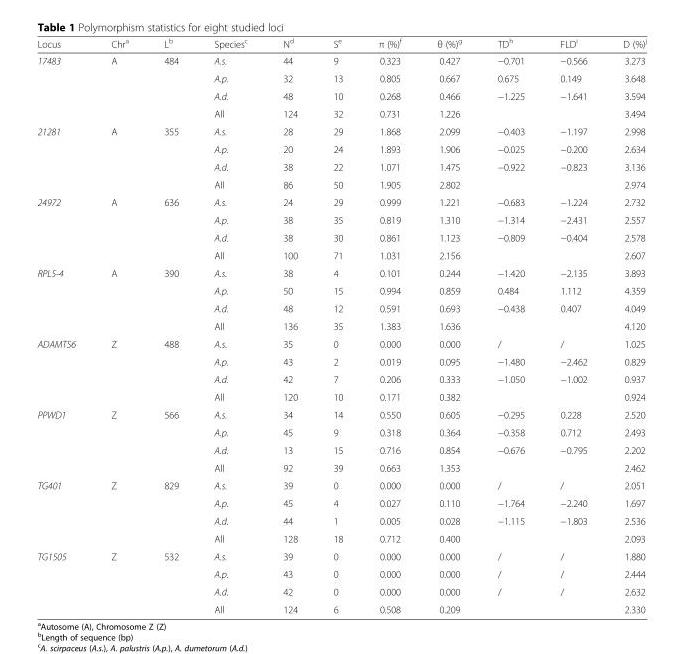table: (36, 36, 646, 614)
table column: (195, 36, 264, 614), (541, 36, 604, 614), (479, 36, 541, 614), (418, 36, 479, 614), (360, 36, 418, 614), (36, 36, 92, 614), (92, 36, 145, 614), (145, 36, 195, 614), (264, 36, 314, 614), (314, 36, 360, 614), (604, 36, 646, 614)
table column header: (36, 36, 646, 51)
table row: (36, 51, 646, 69), (36, 86, 646, 104), (36, 104, 646, 122), (36, 139, 646, 157), (36, 157, 646, 175), (36, 192, 646, 210), (36, 210, 646, 228), (36, 228, 646, 246), (36, 263, 646, 281), (36, 281, 646, 299), (36, 299, 646, 317), (36, 334, 646, 352), (36, 369, 646, 387), (36, 387, 646, 405), (36, 405, 646, 423), (36, 440, 646, 458), (36, 458, 646, 476), (36, 493, 646, 511), (36, 511, 646, 529), (36, 529, 646, 547), (36, 564, 646, 582), (36, 582, 646, 600), (36, 69, 646, 86), (36, 122, 646, 139), (36, 175, 646, 192), (36, 246, 646, 263), (36, 317, 646, 334), (36, 352, 646, 369), (36, 423, 646, 440), (36, 476, 646, 493), (36, 547, 646, 564), (36, 36, 646, 51), (36, 600, 646, 614)
table spanning cell: (36, 51, 92, 122), (36, 192, 92, 263), (36, 263, 92, 334), (36, 334, 92, 405), (36, 405, 92, 476), (36, 476, 92, 547), (36, 122, 92, 192), (36, 547, 92, 614)
